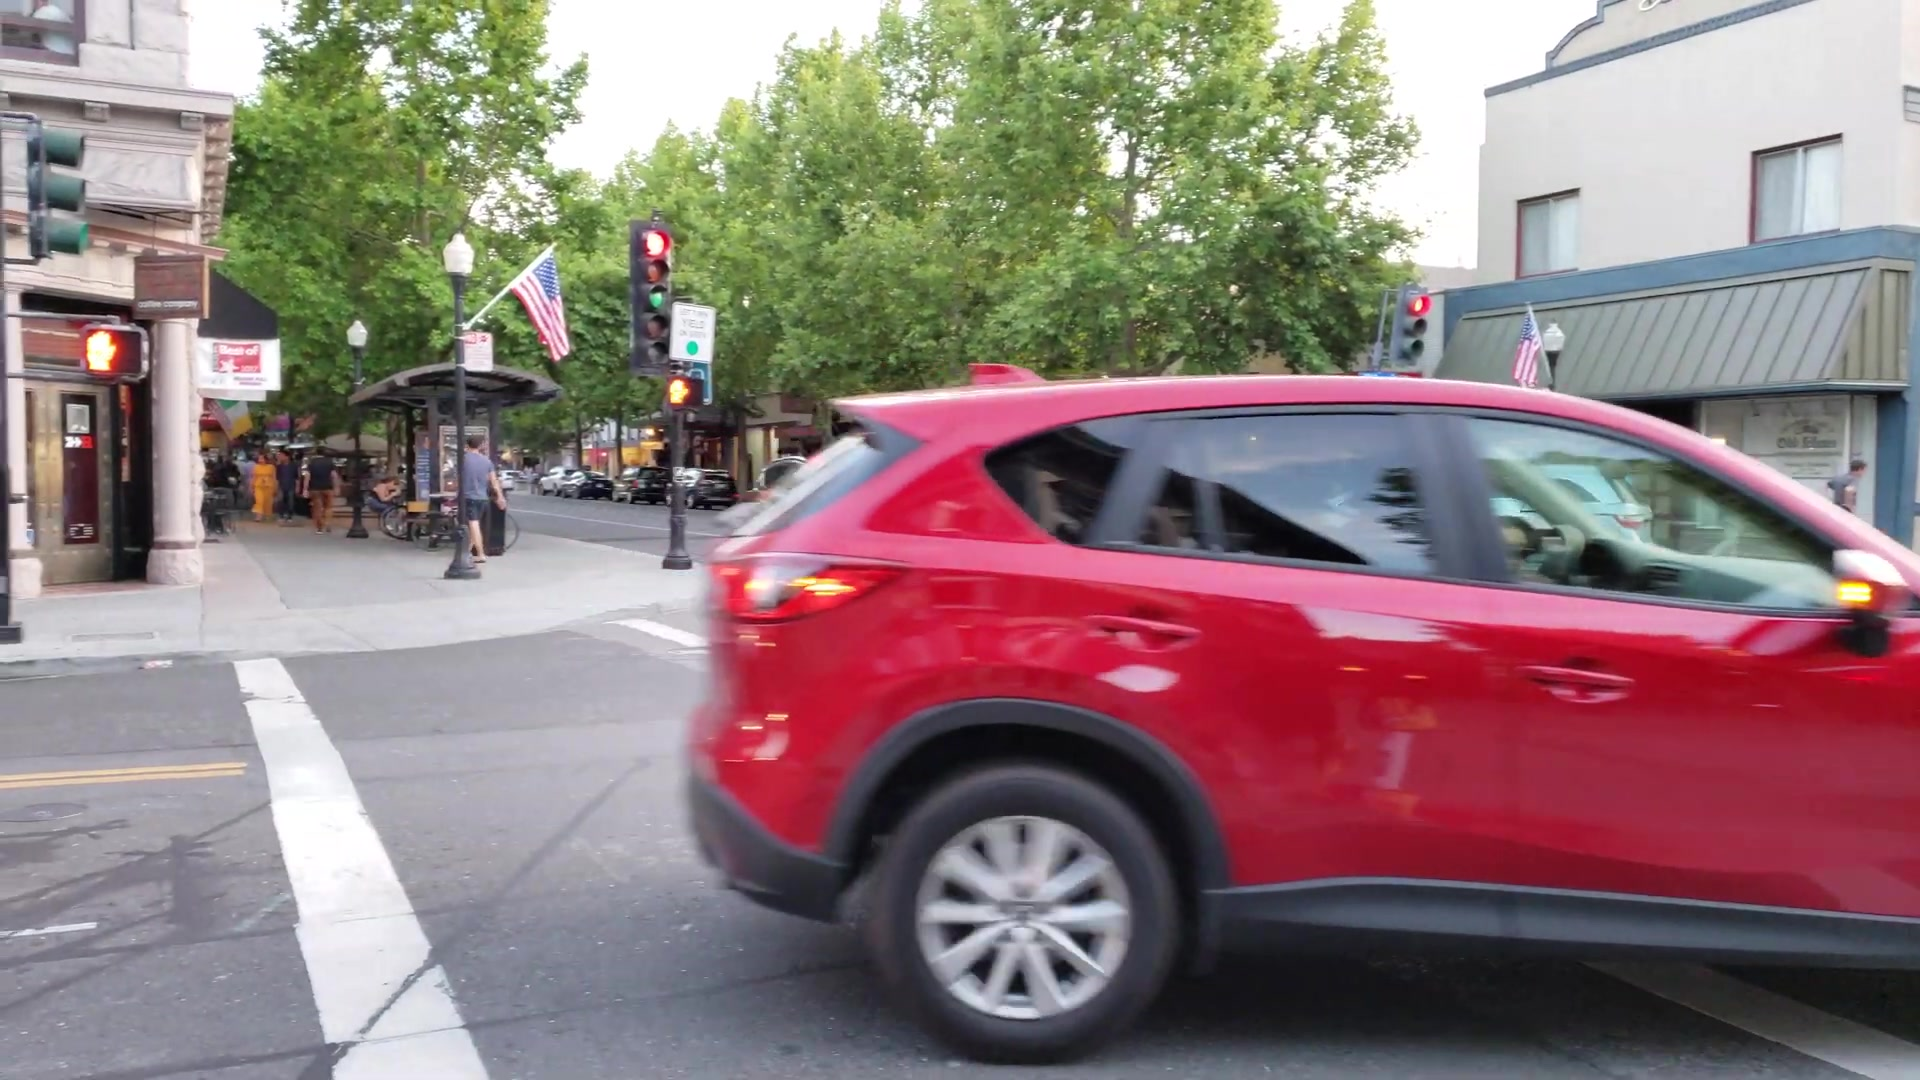vehicle: (702, 377, 1920, 1069)
